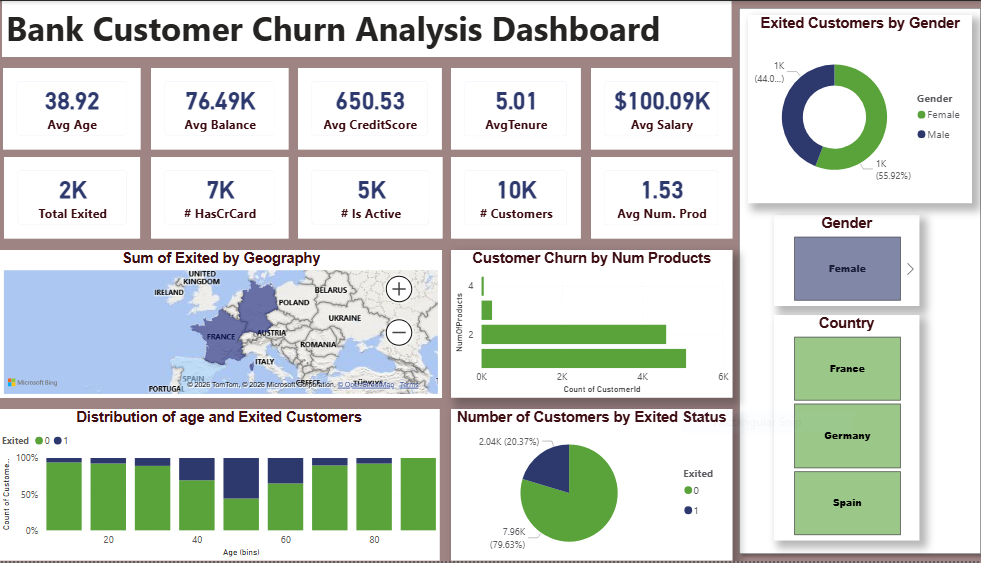

The dashboard page shown, as its layout file describes it:
{"tool":"powerbi","page":{"name":"Page 1","canvas":[1280,720],"ordinal":0},"visuals":[{"type":"textbox","box":[13.3,0,938.3,71.7],"z":0},{"type":"shape","box":[951.4,0,329.1,720],"z":1000},{"type":"cardVisual","fields":{"Data":["Avg(Churn_Modelling.Age)"]},"box":[13.8,86.2,176.9,104.6],"z":2000},{"type":"cardVisual","fields":{"Data":["Avg(Churn_Modelling.Balance)"]},"box":[204.6,86.2,176.9,104.6],"z":3000},{"type":"cardVisual","fields":{"Data":["Avg(Churn_Modelling.CreditScore)"]},"box":[393.8,86.2,184.6,104.6],"z":4000},{"type":"cardVisual","fields":{"Data":["Avg(Churn_Modelling.Tenure)"]},"box":[590,86.7,166.7,105],"z":5000},{"type":"cardVisual","fields":{"Data":["Avg(Churn_Modelling.EstimatedSalary)"]},"box":[770,86.7,181.7,105],"z":6000},{"type":"cardVisual","fields":{"Data":["Sum(Churn_Modelling.Exited)"]},"box":[15.4,200,175.4,104.6],"z":7000},{"type":"cardVisual","fields":{"Data":["Sum(Churn_Modelling.HasCrCard)"]},"box":[204.6,200,176.9,104.6],"z":8000},{"type":"cardVisual","fields":{"Data":["Sum(Churn_Modelling.IsActiveMember)"]},"box":[393.8,200,186.2,104.6],"z":9000},{"type":"cardVisual","fields":{"Data":["CountNonNull(Churn_Modelling.CustomerId)"]},"box":[590,200,166.7,105],"z":10000},{"type":"cardVisual","fields":{"Data":["Avg(Churn_Modelling.NumOfProducts)"]},"box":[770,200,181.7,105],"z":11000},{"type":"slicer","title":"Gender","fields":{"Values":["Churn_Modelling.Gender"]},"box":[1005,275,186.7,116.7],"z":12000},{"type":"slicer","title":"Country","fields":{"Values":["Churn_Modelling.Geography"]},"box":[1005,403.3,186.7,290],"z":13000},{"type":"donutChart","title":"Exited Customers by Gender","fields":{"Category":["Churn_Modelling.Gender"],"Y":["Sum(Churn_Modelling.Exited)"]},"box":[971.7,18.3,288.3,241.7],"z":14000},{"type":"filledMap","fields":{"Category":["Churn_Modelling.Geography"]},"box":[10,320,568.3,190],"z":15000},{"type":"hundredPercentStackedColumnChart","title":" Distribution of age and Exited Customers","fields":{"Category":["Churn_Modelling.Age (bins)"],"Y":["CountNonNull(Churn_Modelling.CustomerId)"],"Series":["Churn_Modelling.Exited"]},"box":[8.3,525,568.3,195],"z":16000},{"type":"clusteredBarChart","title":"Customer Churn by Num Products","fields":{"Category":["Churn_Modelling.NumOfProducts"],"Y":["CountNonNull(Churn_Modelling.CustomerId)"]},"box":[590,320,361.7,190],"z":17000},{"type":"pieChart","title":"Number of Customers by Exited Status","fields":{"Category":["Churn_Modelling.Exited"],"Y":["CountNonNull(Churn_Modelling.CustomerId)"]},"box":[590,525,361.7,195],"z":18000}]}

Visuals, with their boxes in screenshot pixels (x1, y1, x2, y2), scaled from the page's 1280x720 canvas onto the 981x563 screenshot:
textbox: bbox=[10, 0, 729, 56]
shape: bbox=[729, 0, 980, 562]
cardVisual - Avg(Churn_Modelling.Age): bbox=[11, 67, 146, 149]
cardVisual - Avg(Churn_Modelling.Balance): bbox=[157, 67, 292, 149]
cardVisual - Avg(Churn_Modelling.CreditScore): bbox=[302, 67, 443, 149]
cardVisual - Avg(Churn_Modelling.Tenure): bbox=[452, 68, 580, 150]
cardVisual - Avg(Churn_Modelling.EstimatedSalary): bbox=[590, 68, 729, 150]
cardVisual - Sum(Churn_Modelling.Exited): bbox=[12, 156, 146, 238]
cardVisual - Sum(Churn_Modelling.HasCrCard): bbox=[157, 156, 292, 238]
cardVisual - Sum(Churn_Modelling.IsActiveMember): bbox=[302, 156, 445, 238]
cardVisual - CountNonNull(Churn_Modelling.CustomerId): bbox=[452, 156, 580, 238]
cardVisual - Avg(Churn_Modelling.NumOfProducts): bbox=[590, 156, 729, 238]
"Gender" slicer: bbox=[770, 215, 913, 306]
"Country" slicer: bbox=[770, 315, 913, 542]
"Exited Customers by Gender" donutChart: bbox=[745, 14, 966, 203]
filledMap - Churn_Modelling.Geography: bbox=[8, 250, 443, 399]
" Distribution of age and Exited Customers" hundredPercentStackedColumnChart: bbox=[6, 411, 442, 562]
"Customer Churn by Num Products" clusteredBarChart: bbox=[452, 250, 729, 399]
"Number of Customers by Exited Status" pieChart: bbox=[452, 411, 729, 562]
